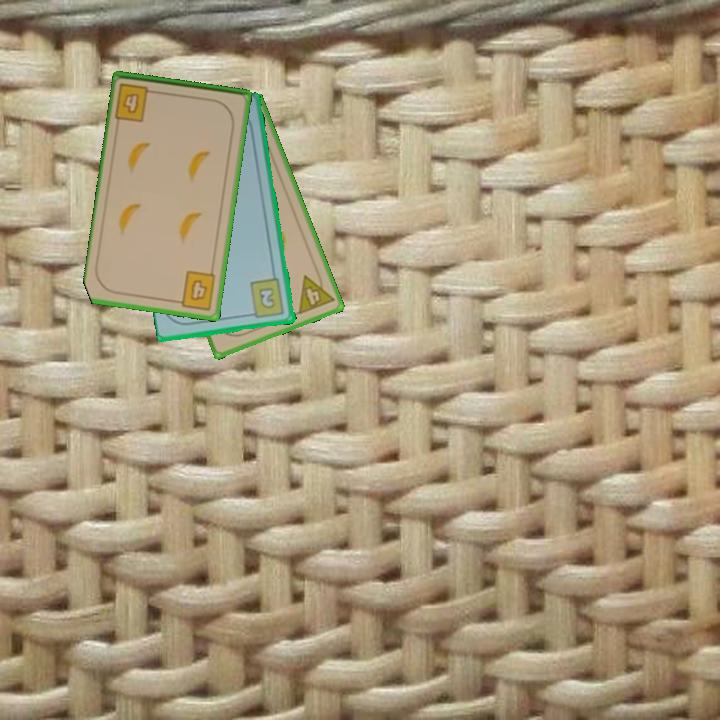2b: (245, 275, 287, 321)
4b: (172, 267, 219, 313), (112, 80, 160, 124)
4p: (294, 267, 337, 317)
